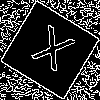X: (25, 25, 77, 81)
